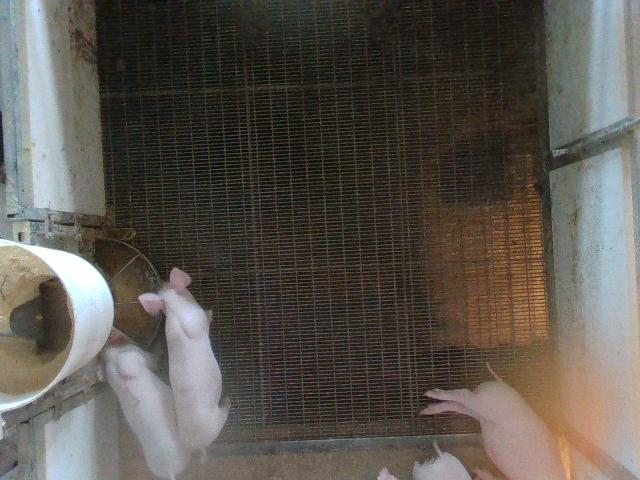pig-5: (102, 329, 190, 478)
